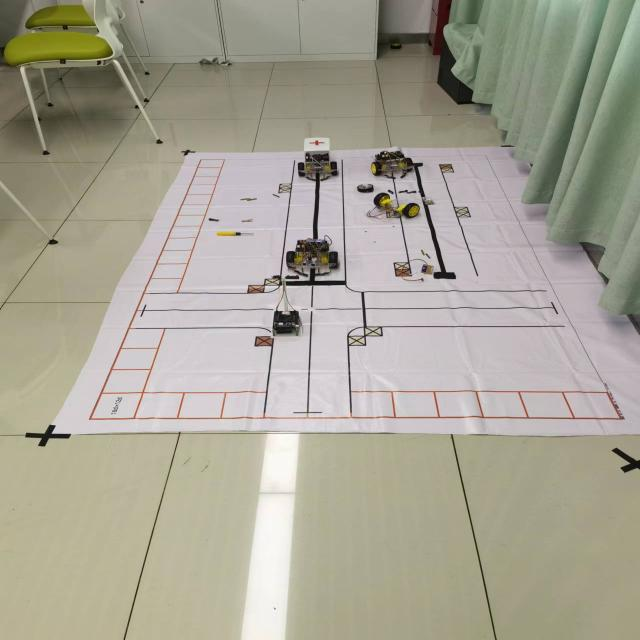RedCross: (308, 140, 326, 146)
